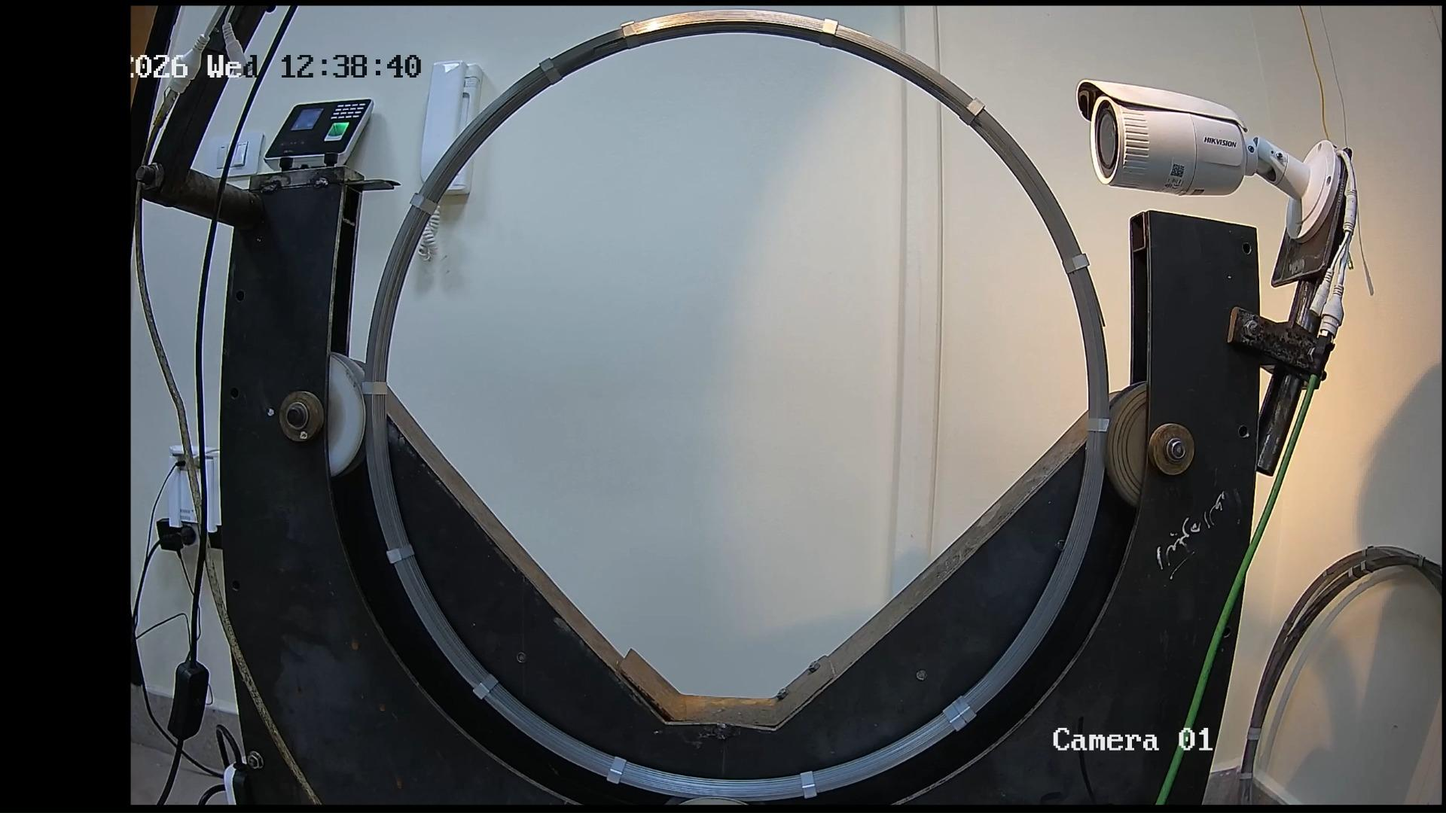Clamp: (958, 98, 984, 124), (953, 696, 976, 723), (538, 59, 561, 84), (943, 705, 965, 731), (412, 193, 438, 214), (474, 675, 497, 698), (607, 757, 627, 783), (388, 545, 413, 564), (819, 20, 837, 46), (621, 22, 640, 46), (801, 772, 816, 798), (1067, 254, 1088, 272), (361, 381, 387, 394), (1089, 417, 1109, 431)
